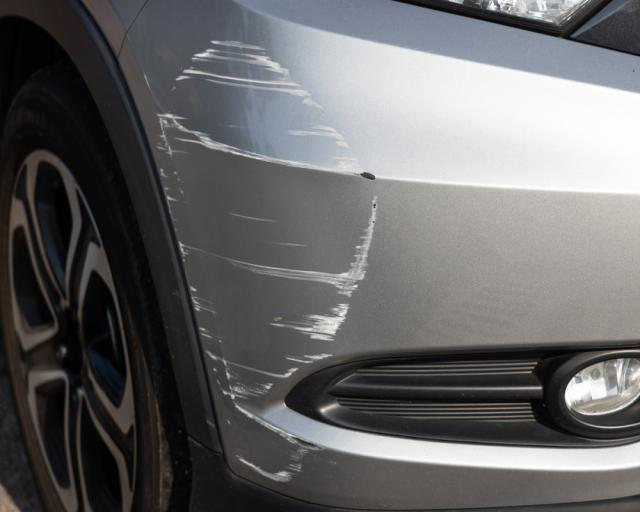scratch: (150, 34, 379, 487)
